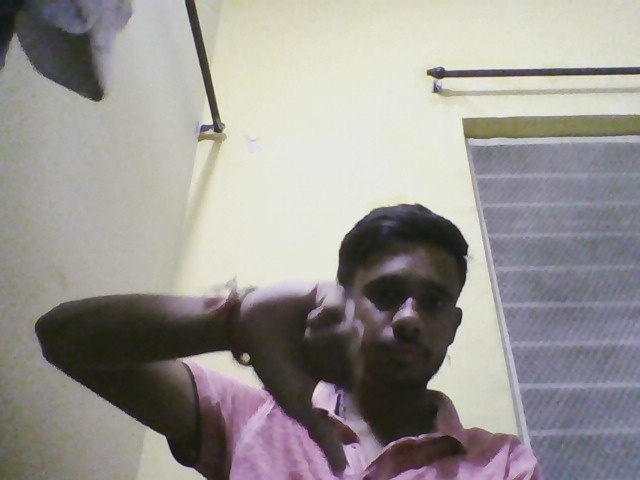no: (241, 258, 386, 480)
